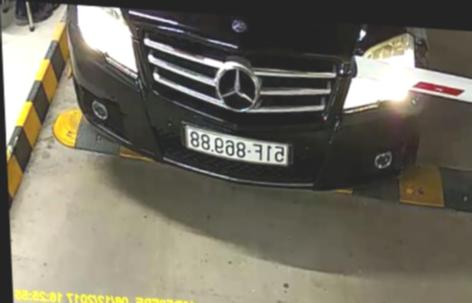License_Plate: (180, 126, 298, 174)
